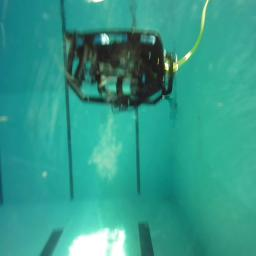Side: (65, 28, 178, 110)
